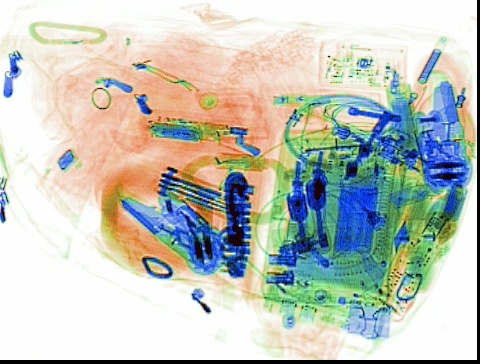powerbank: (330, 161, 385, 256)
